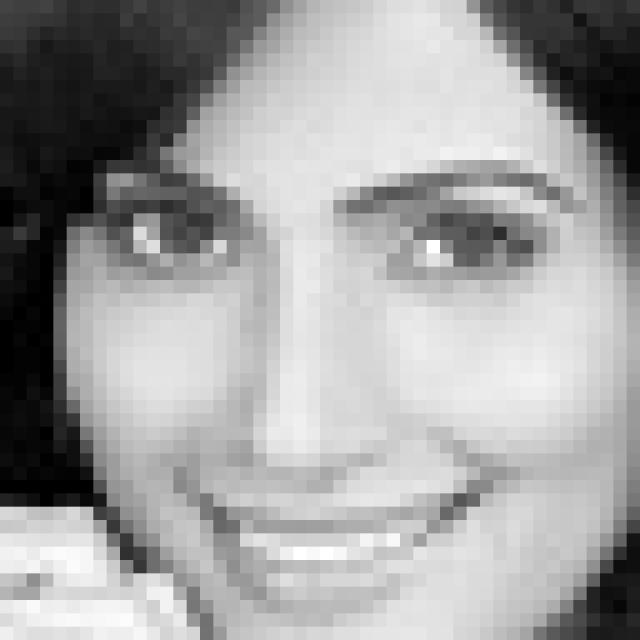happy: (90, 154, 586, 621)
